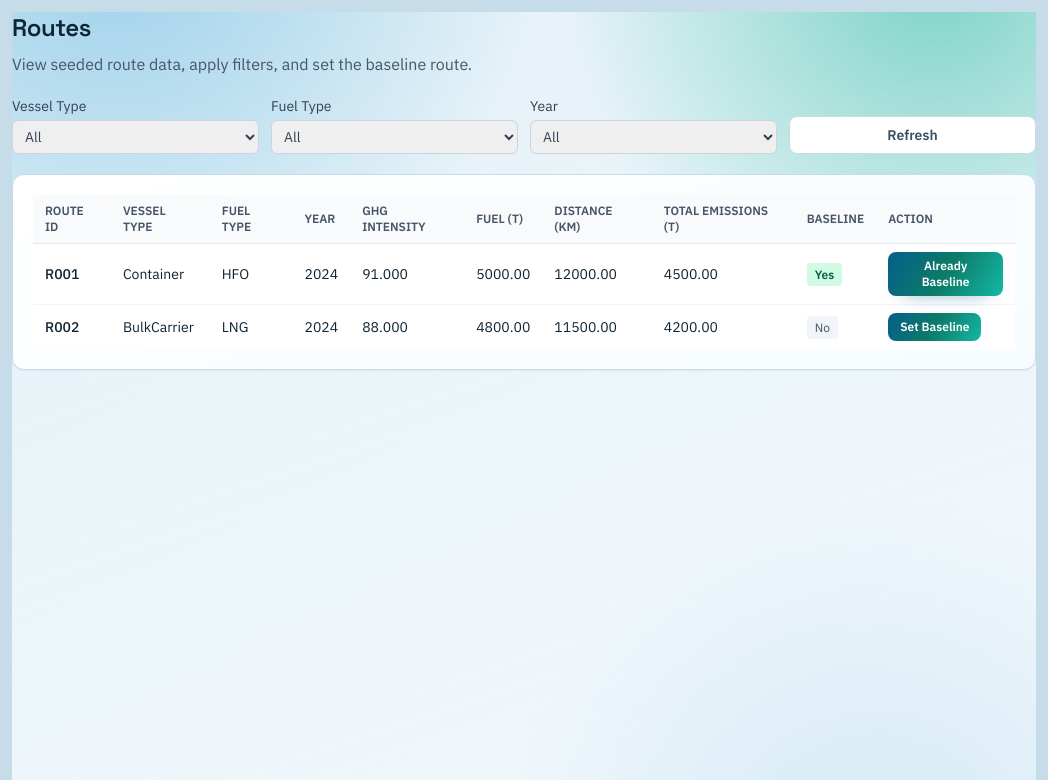
Test case: RoutesPage › renders routes and applies vessel filter
Select "Container" in the dropdown labelled "Vessel Type" at (136, 137), box [12,120,259,154]
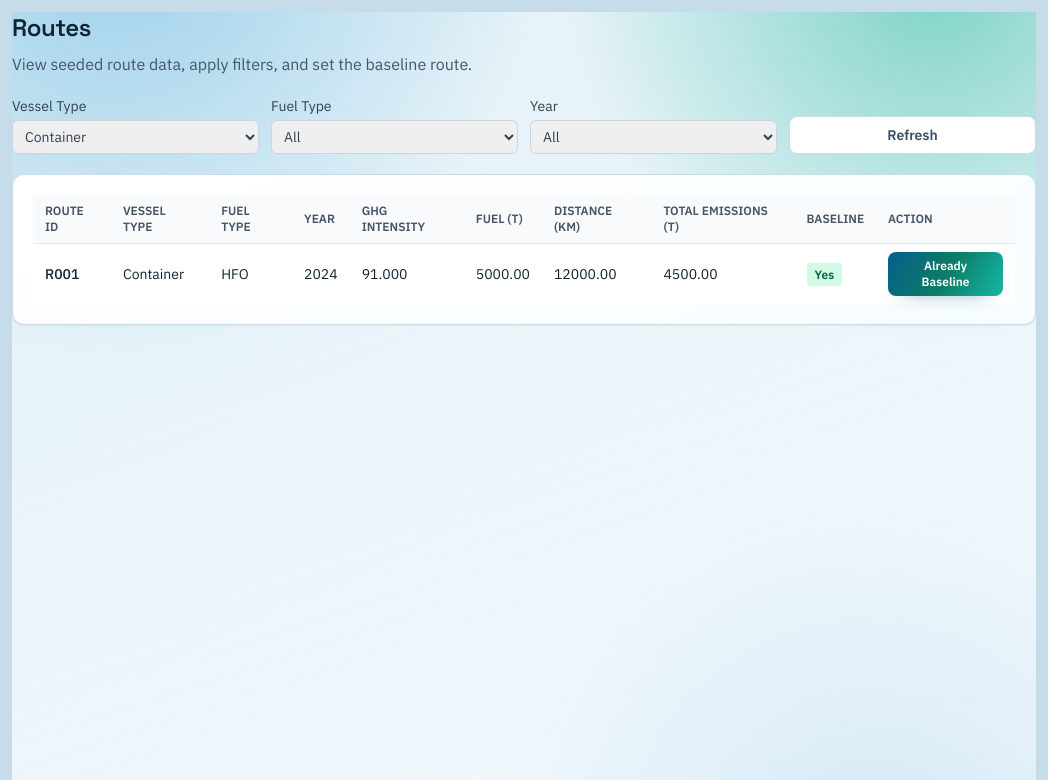
Expected: the text "R002" is not shown
